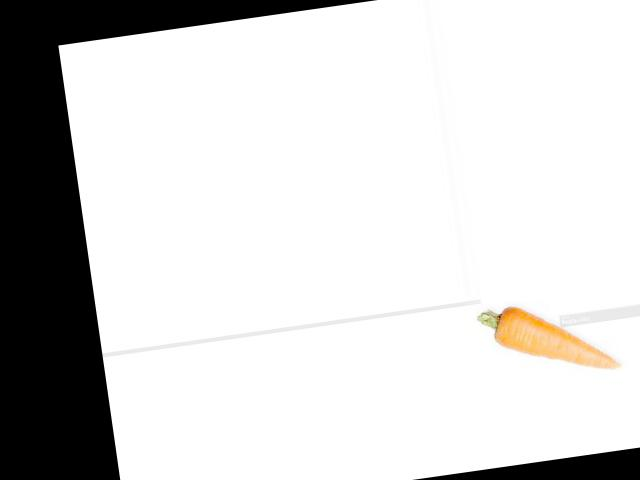carrot: (484, 291, 625, 386)
